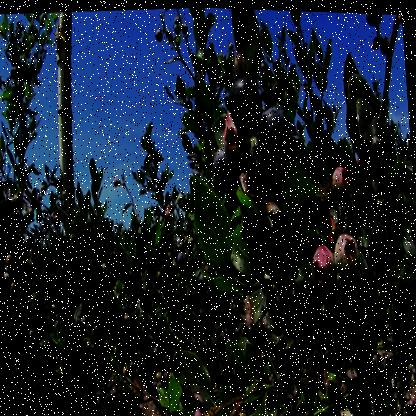intermediate: (313, 240, 338, 288)
mature: (258, 107, 291, 164), (229, 79, 263, 127), (215, 153, 239, 189), (177, 249, 189, 268)
young: (333, 231, 362, 280), (238, 208, 266, 252), (261, 211, 285, 249), (226, 127, 251, 162), (340, 276, 363, 313), (333, 166, 353, 197), (364, 12, 386, 24)
